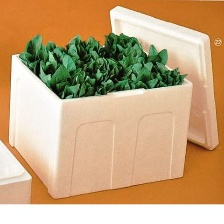foam_box: (4, 2, 223, 201)
